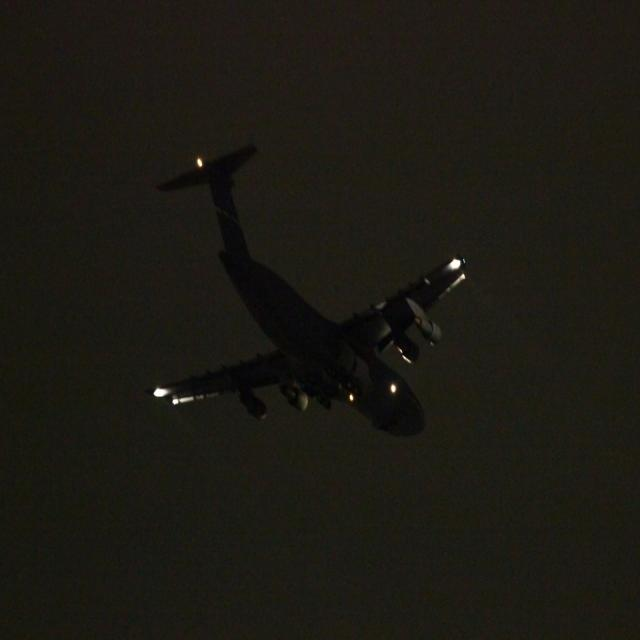MIL_Plane: (143, 141, 465, 438)
